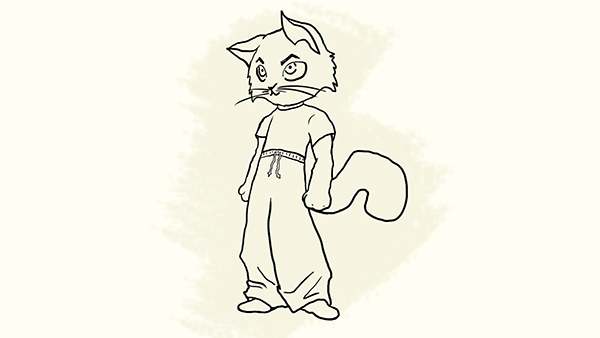cat: (224, 9, 413, 326)
